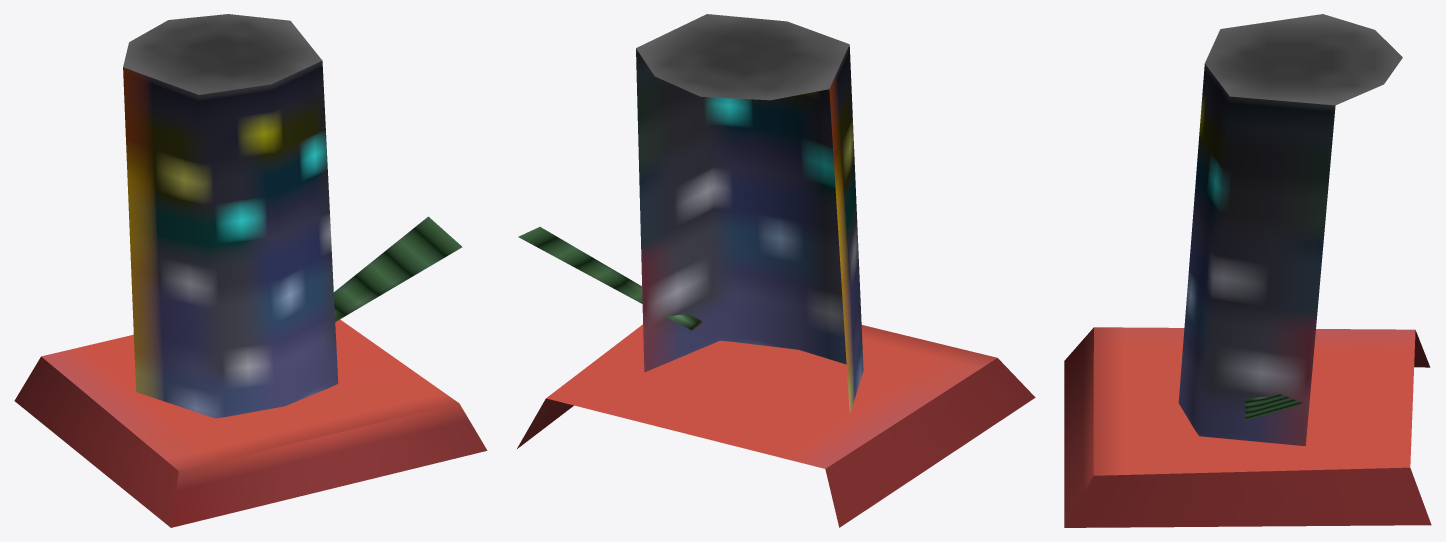
The model's file is fg_fireworks_out.dae.
3 renders of one model, left to right at view 1: azimuth 30°, elevation 25°; view 2: azimuth 150°, elevation 25°; view 3: azimuth 270°, elevation 25°, orthographic. The views are drawn at different scales.
Visible parts, largest first — view 1: fg_fireworks_out; view 2: fg_fireworks_out; view 3: fg_fireworks_out.
Boxes of the visible parts, box(x1,y1,x2,y2) form: fg_fireworks_out: box(14, 14, 487, 527); fg_fireworks_out: box(517, 14, 1035, 527); fg_fireworks_out: box(1064, 14, 1431, 527).
Bounding box in the file's own units: 15.52 × 14.88 × 12.16.
Materials: 1 (1 with a texture image).
